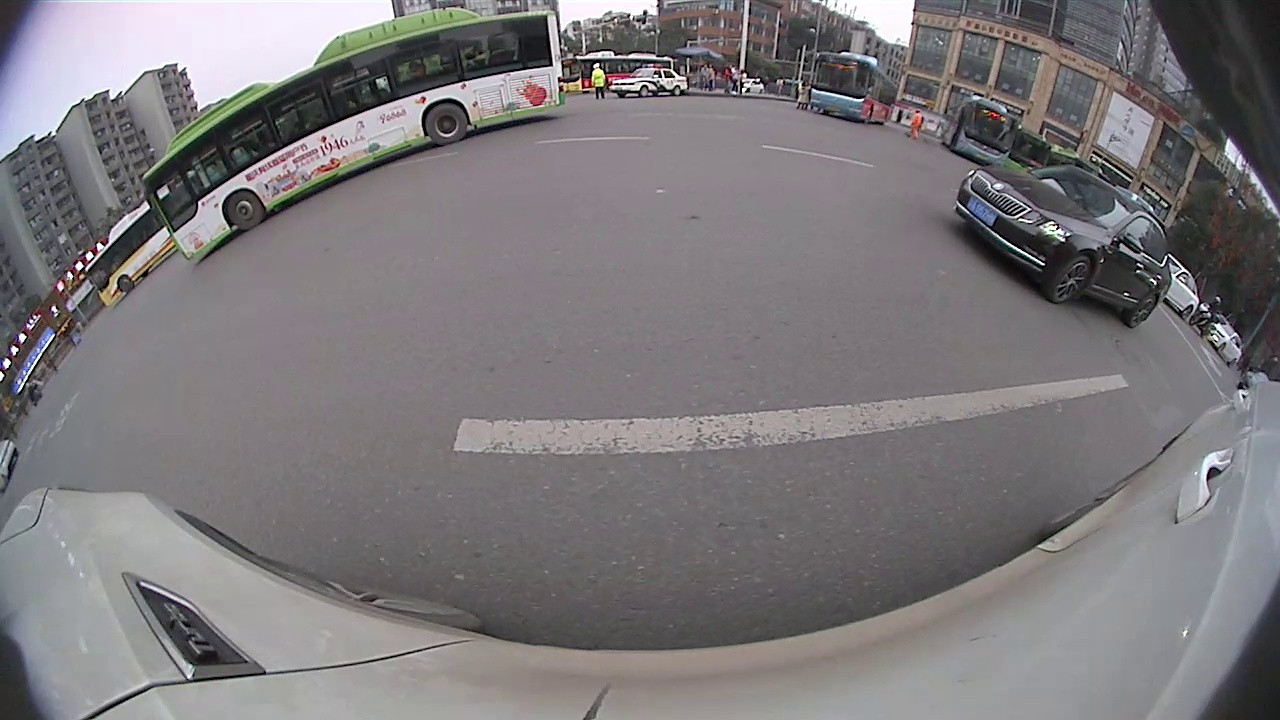bus: (141, 7, 560, 262), (83, 198, 173, 308), (810, 51, 897, 123), (943, 93, 1020, 160), (565, 50, 677, 91)
car: (955, 165, 1171, 327), (1166, 255, 1201, 321), (612, 67, 688, 96), (1206, 314, 1244, 366)
front: (1047, 254, 1094, 308), (222, 189, 267, 232)
person: (795, 75, 809, 110), (592, 62, 605, 99), (912, 107, 919, 137)
rear: (421, 99, 471, 146), (1128, 293, 1160, 331)
